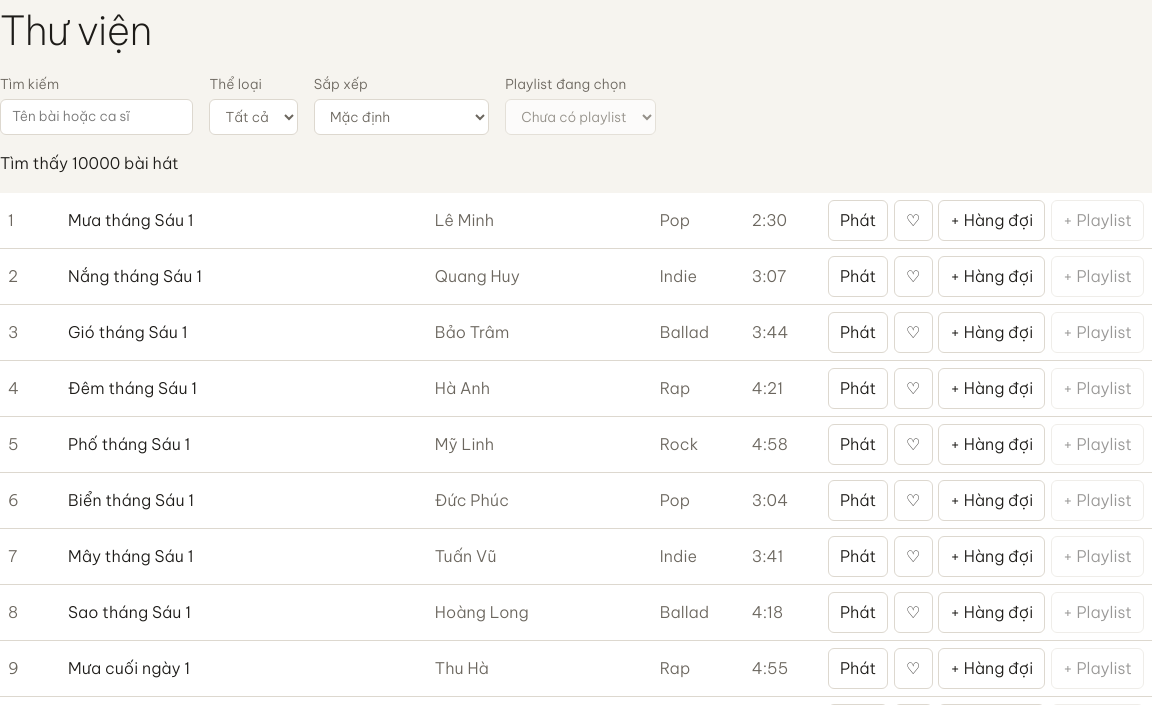
Scenario: LibraryPage › hiển thị thông báo khi không có kết quả
The image size is (1152, 705).
In the search field labelled "Tìm kiếm": (97, 117) [0, 99, 193, 135], type "xyz"
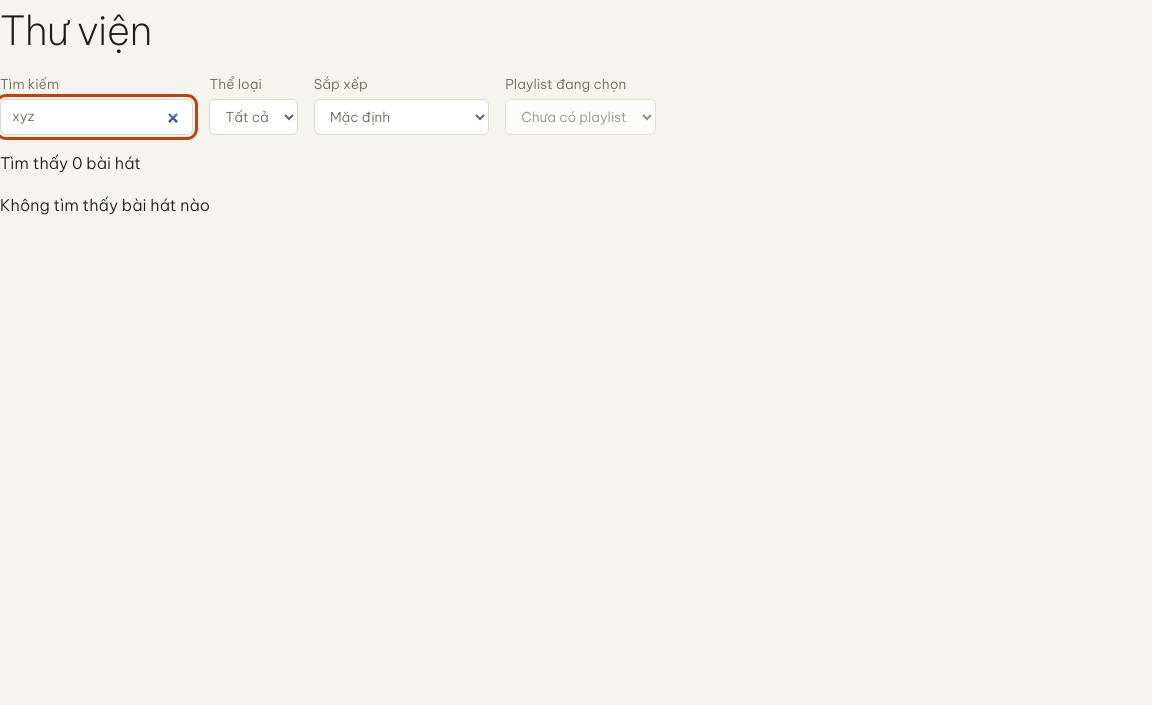
Now the text "Không tìm thấy bài hát nào" is shown, box [0, 195, 210, 215]
